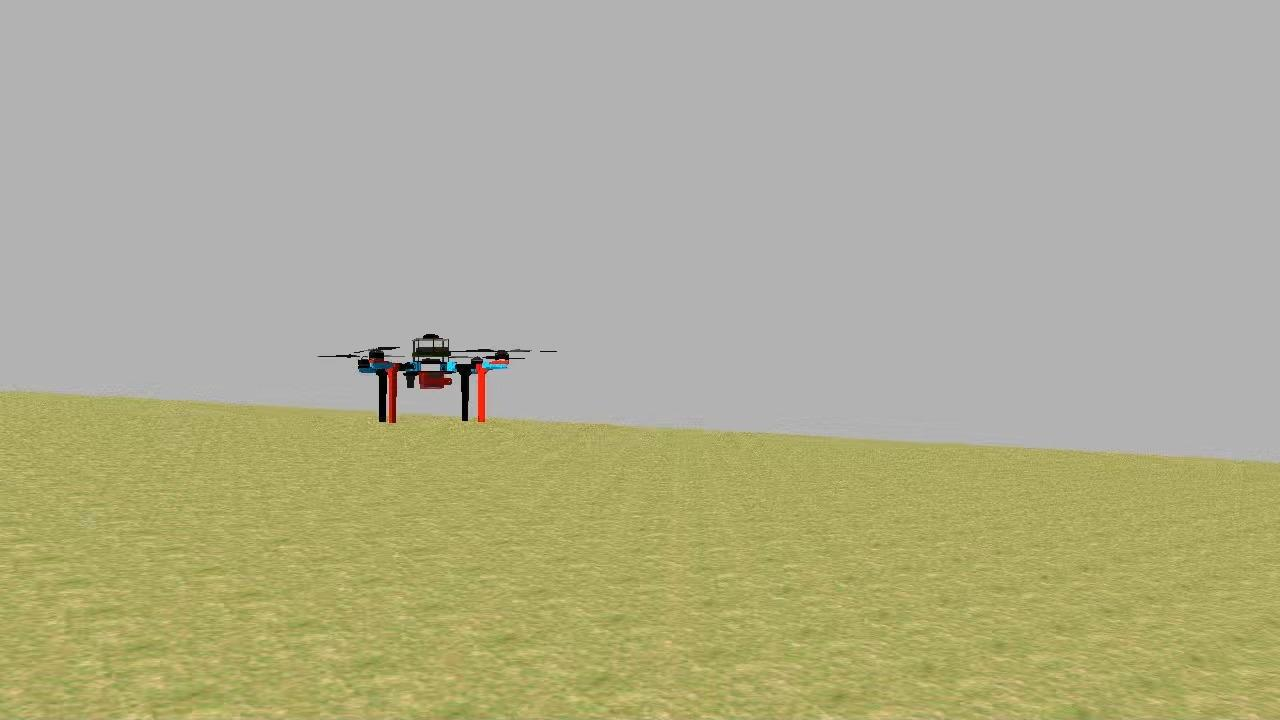UAV: (350, 324, 520, 429)
